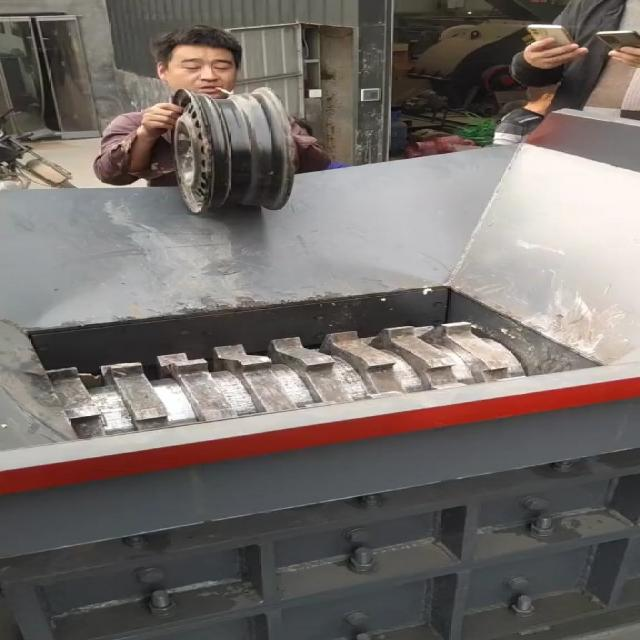Broyeur: (11, 281, 613, 459)
